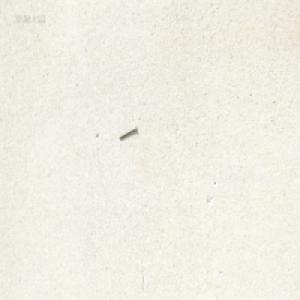Bolt: (118, 125, 136, 139)
